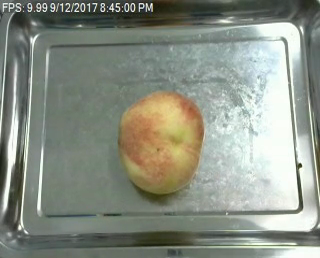Peach: (118, 89, 205, 195)
